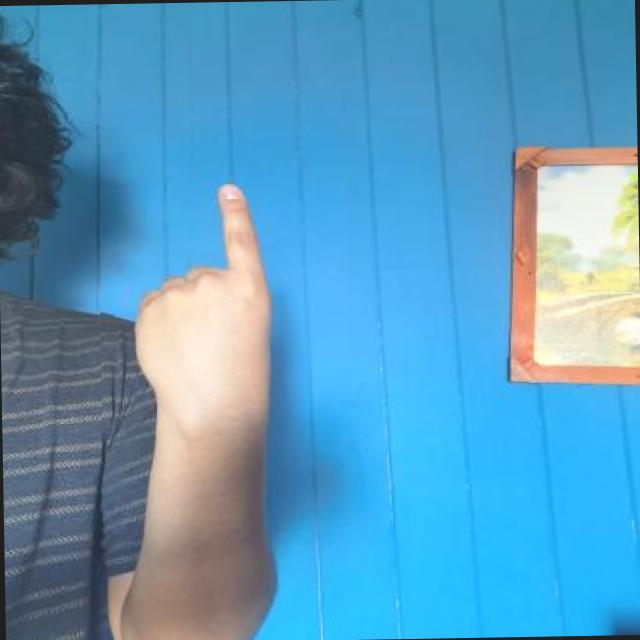T: (97, 177, 286, 460)
